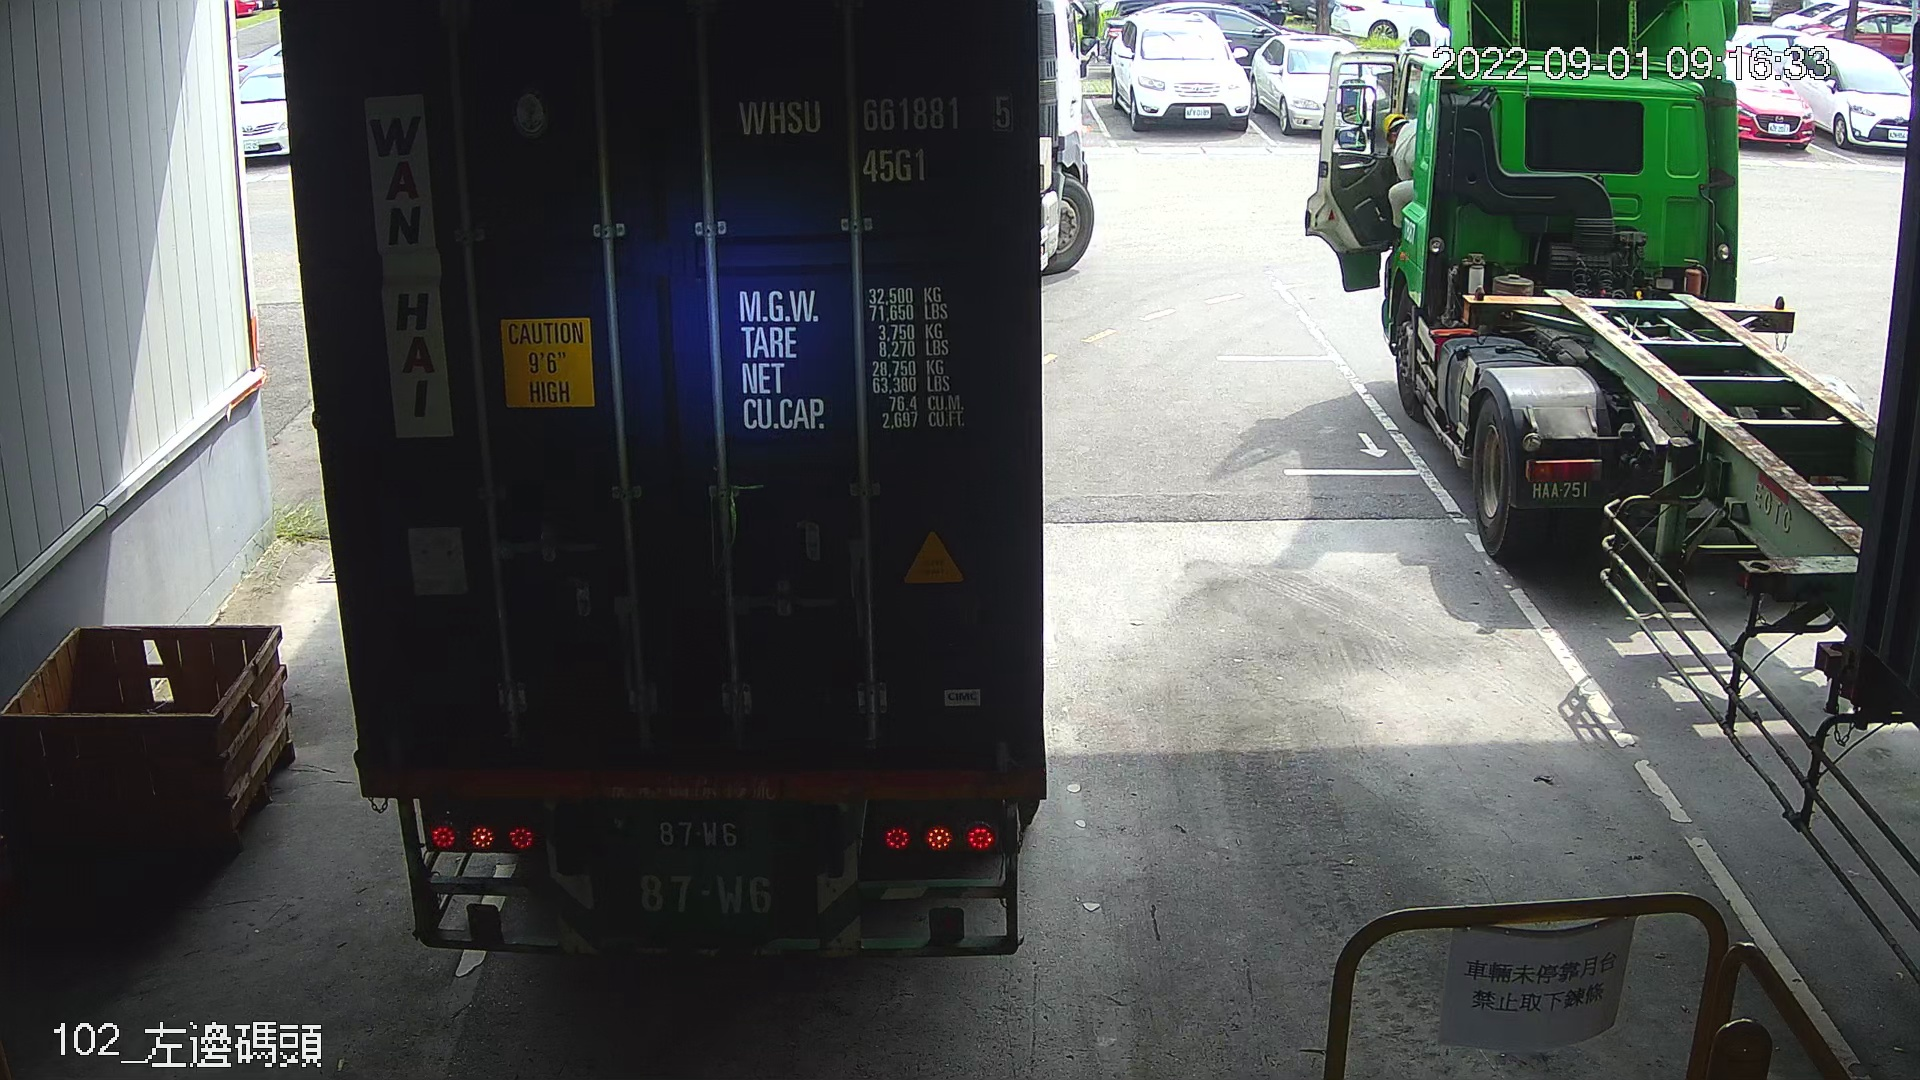container: (725, 84, 1023, 194)
